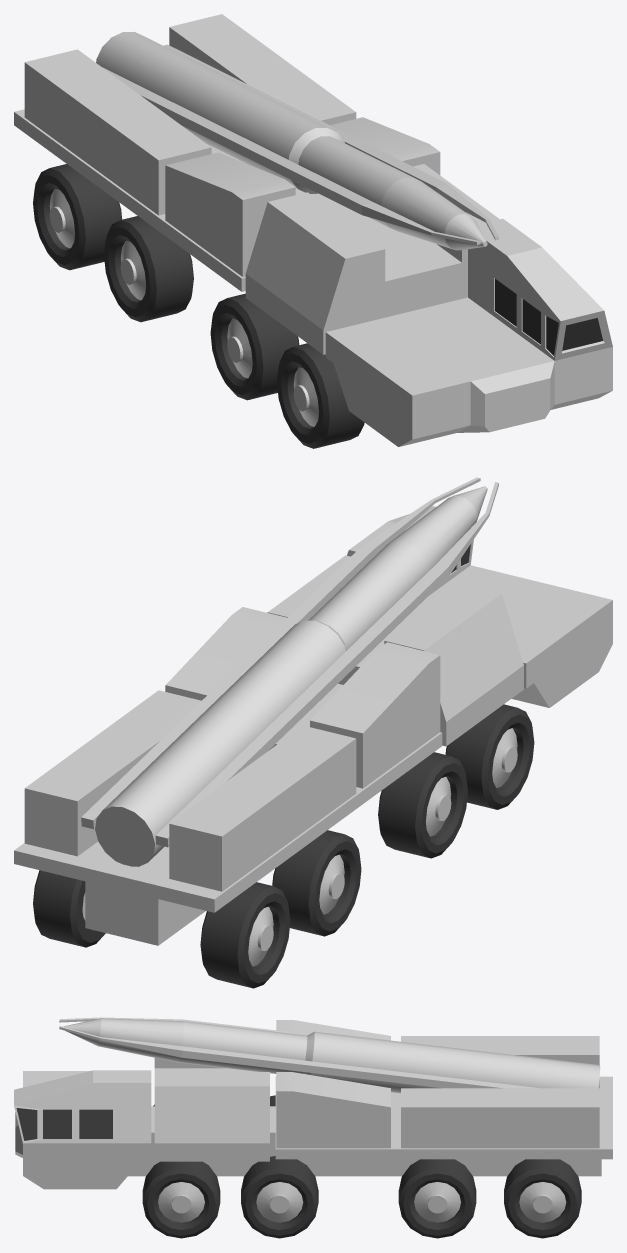
Rendered from TestMissile.fbx.
3 renders of one model, top to bottom at view 1: azimuth 30°, elevation 25°; view 2: azimuth 150°, elevation 25°; view 3: azimuth 270°, elevation 25°, orthographic. The views are drawn at different scales.
Visible parts, largest first — view 1: 立方体.012, BM, 柱体.002, 柱体.004, 立方体.008; view 2: BM, 立方体.012, 柱体.002, 柱体.004; view 3: BM, 立方体.012, 柱体.002, 柱体.004, 立方体.008.
Part boxes in pixels (left/top/right/bottom): 立方体.012: left=14, top=109, right=612, bottom=446; BM: left=24, top=14, right=498, bottom=276; 柱体.002: left=33, top=164, right=364, bottom=448; 柱体.004: left=49, top=188, right=318, bottom=426; 立方体.008: left=495, top=278, right=602, bottom=355; BM: left=24, top=477, right=498, bottom=891; 立方体.012: left=14, top=506, right=612, bottom=945; 柱体.002: left=33, top=704, right=534, bottom=988; 柱体.004: left=82, top=728, right=517, bottom=966; BM: left=59, top=1017, right=600, bottom=1148; 立方体.012: left=14, top=1058, right=612, bottom=1189; 柱体.002: left=142, top=1095, right=581, bottom=1238; 柱体.004: left=158, top=1182, right=566, bottom=1222; 立方体.008: left=16, top=1108, right=112, bottom=1140.
Bounding box in the file's own units: 564 × 628 × 1874.
Materials: 2 (1 with a texture image).
